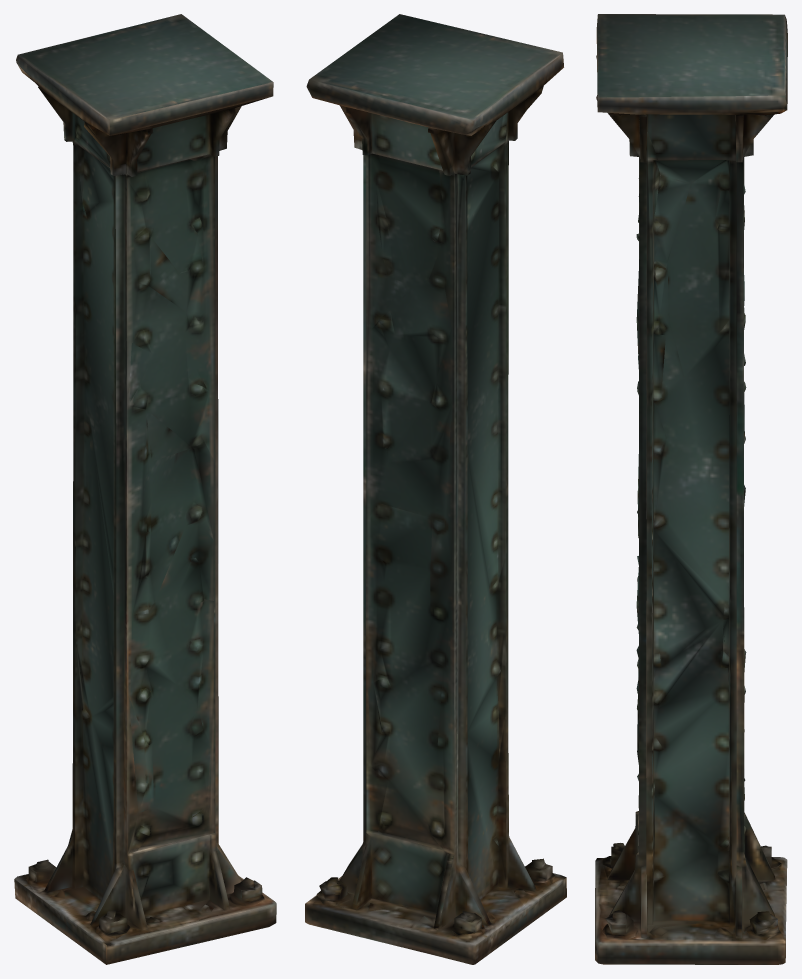
Rendered from pillar.glb.
3 renders of one model, left to right at view 1: azimuth 30°, elevation 25°; view 2: azimuth 150°, elevation 25°; view 3: azimuth 270°, elevation 25°, orthographic. The views are drawn at different scales.
Visible parts, largest first — view 1: convert; view 2: convert; view 3: convert.
Boxes of the visible parts, x1,y1,x2,y2 form: convert: (14, 14, 276, 964); convert: (305, 14, 566, 964); convert: (595, 14, 787, 964).
Bounding box in the file's own units: 0.2466 × 1.15 × 0.2323.
1 material, 1 textured.
